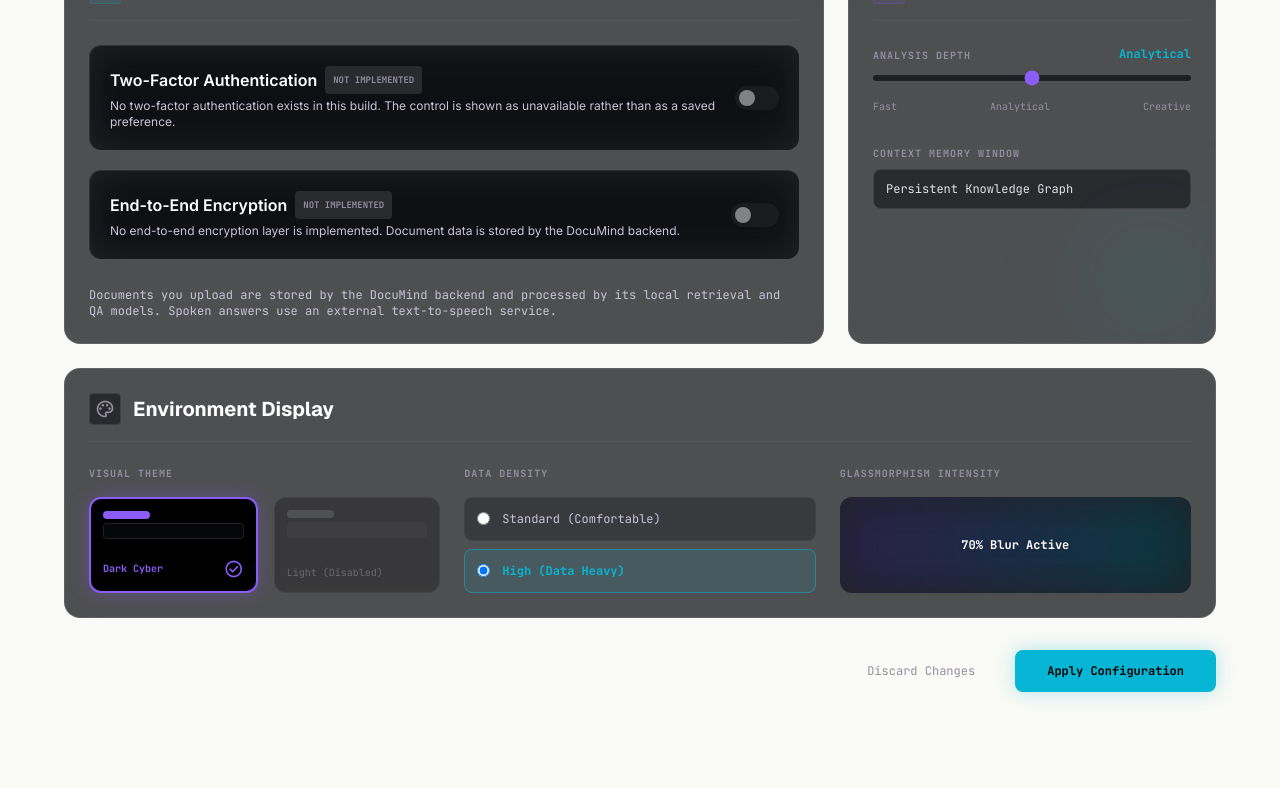
Test: SettingsPage honesty › does not claim success until the server confirms the save
(page scrolled)
Click the button "Apply Configuration".
click(1116, 671)  # box x1=1015 y1=650 x2=1216 y2=692
(page scrolled)
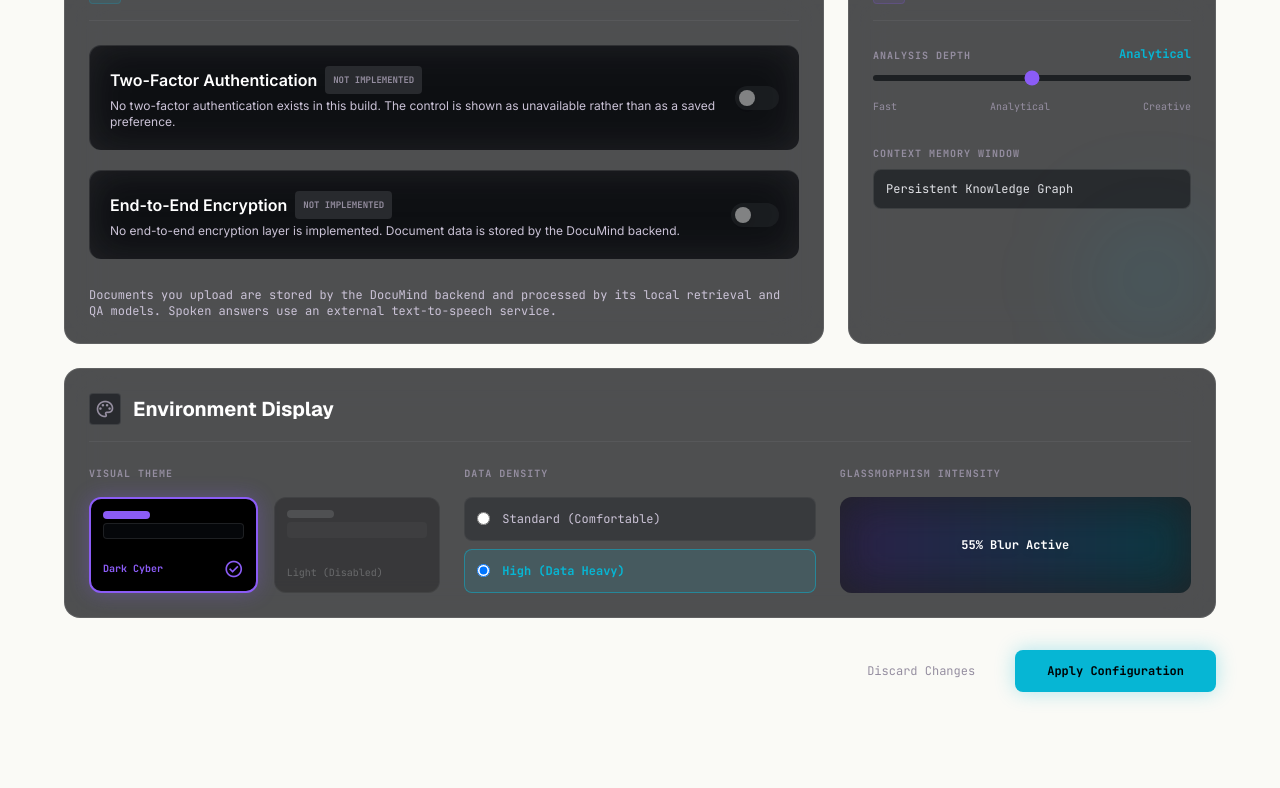
expect the text "55% Blur Active" is shown: met, box x1=961 y1=536 x2=1069 y2=554
